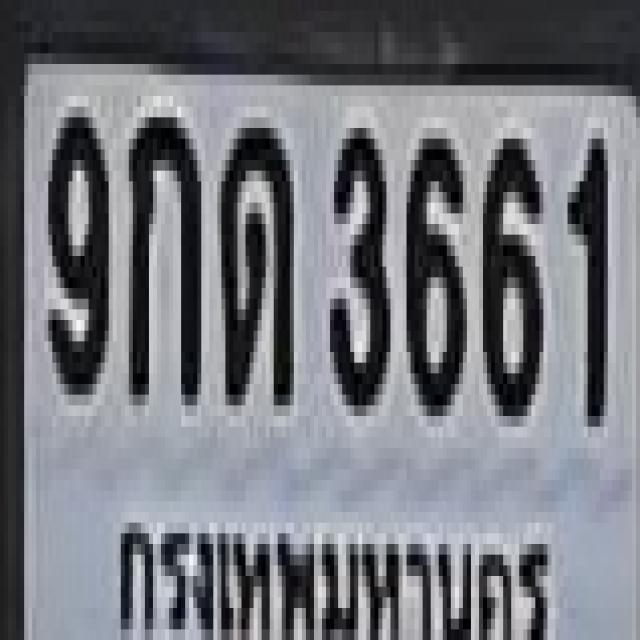1: (563, 128, 604, 416)
3: (326, 117, 391, 418)
6: (402, 128, 467, 419), (479, 128, 544, 416)
9: (44, 107, 110, 400)
A01: (125, 106, 203, 412)
A20: (217, 117, 298, 413)
BKK: (107, 494, 571, 640)
